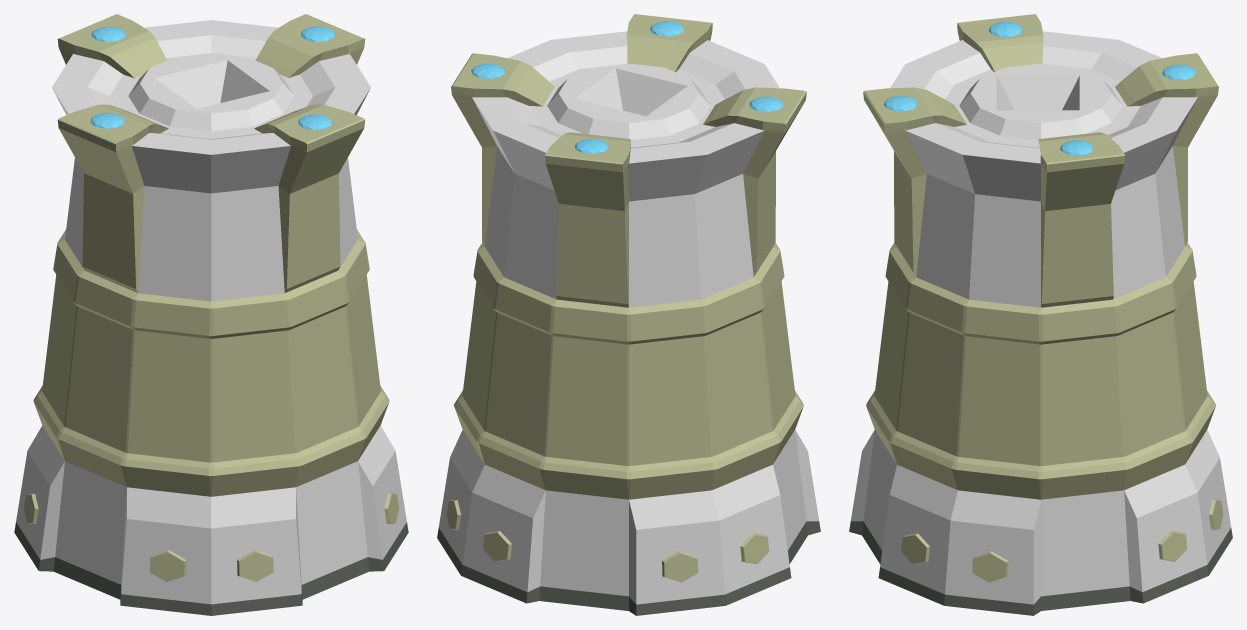
Rendered from 3.2机关平台机关.fbx.
The picture shows the model from 3 angles, left to right: view 1: azimuth 30°, elevation 25°; view 2: azimuth 150°, elevation 25°; view 3: azimuth 270°, elevation 25°; orthographic projection.
Parts seen in each view (by area): view 1: 柱体.007, 柱体.008, 柱体.003, 柱体.004, 柱体.005, 柱体.002, 柱体.013, 柱体.014; view 2: 柱体.007, 柱体.008, 柱体.005, 柱体.004, 柱体.002, 柱体.003, 柱体.015, 柱体.012, 柱体.016; view 3: 柱体.007, 柱体.008, 柱体.002, 柱体.003, 柱体.005, 柱体.004, 柱体.018, 柱体.017, 柱体.019.
Boxes of the visible parts, <box> form: 柱体.007: <box>14,20,408,615</box>; 柱体.008: <box>33,229,389,496</box>; 柱体.003: <box>254,104,365,292</box>; 柱体.004: <box>57,104,168,292</box>; 柱体.005: <box>57,14,167,77</box>; 柱体.002: <box>255,14,365,77</box>; 柱体.013: <box>237,550,273,581</box>; 柱体.014: <box>150,550,186,581</box>; 柱体.007: <box>437,31,820,615</box>; 柱体.008: <box>454,242,803,499</box>; 柱体.005: <box>545,132,630,307</box>; 柱体.004: <box>703,87,806,276</box>; 柱体.002: <box>451,53,554,246</box>; 柱体.003: <box>626,14,712,72</box>; 柱体.015: <box>662,551,697,582</box>; 柱体.012: <box>740,533,769,563</box>; 柱体.016: <box>483,531,511,561</box>; 柱体.007: <box>849,31,1232,615</box>; 柱体.008: <box>866,242,1215,499</box>; 柱体.002: <box>1038,132,1124,307</box>; 柱体.003: <box>863,87,966,276</box>; 柱体.005: <box>1115,53,1218,246</box>; 柱体.004: <box>957,14,1043,72</box>; 柱体.018: <box>972,551,1008,582</box>; 柱体.017: <box>1158,530,1187,561</box>; 柱体.019: <box>901,533,929,563</box>.
Size of the model in its own units: 75.81 by 98.27 by 75.84.
